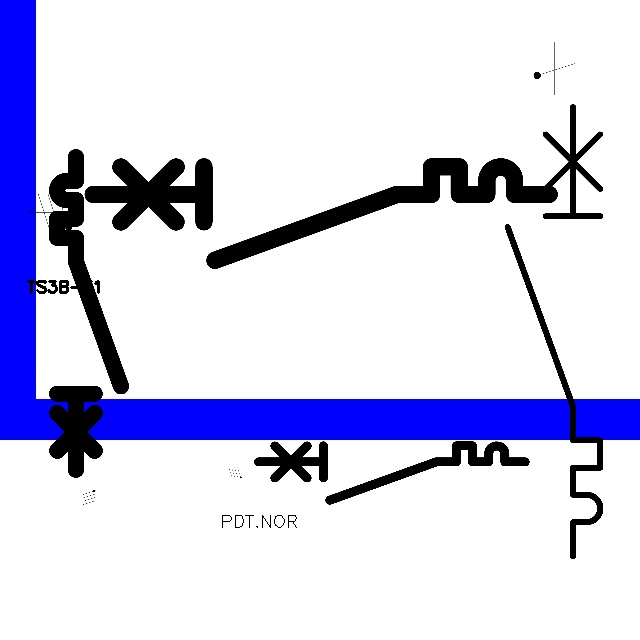interruptor_termomagnetico: (81, 155, 561, 272), (496, 95, 612, 568), (49, 149, 129, 478), (251, 439, 531, 507)
